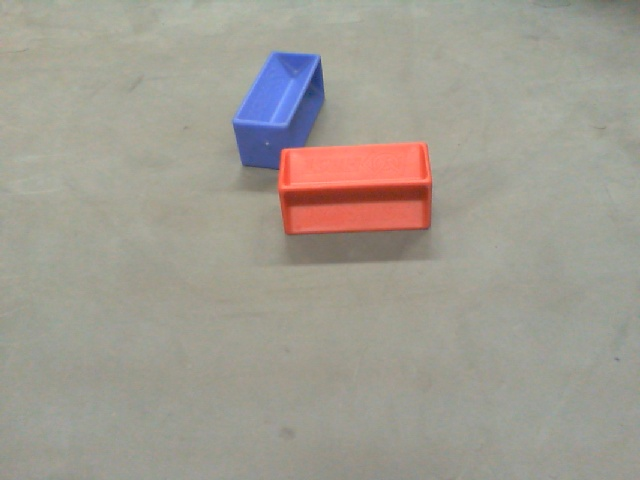BlueSample: (230, 49, 326, 172)
RedSample: (278, 146, 437, 234)
